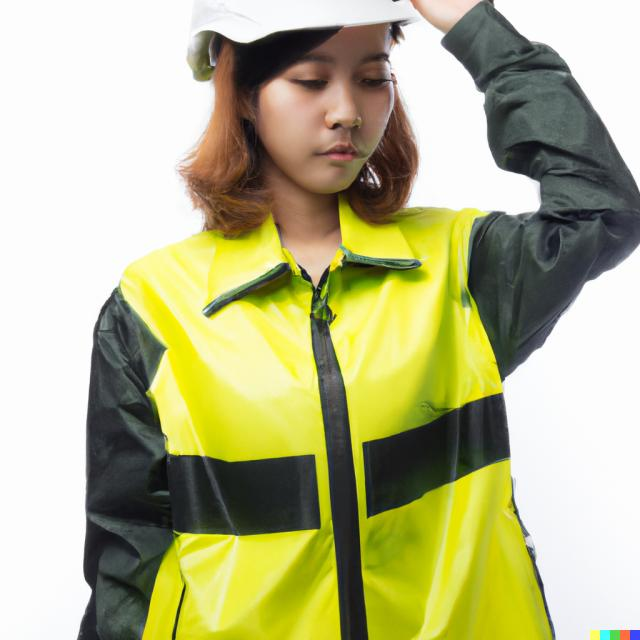Reflective-Jacket: (109, 200, 554, 640)
Safety-Helmet: (186, 0, 416, 48)
